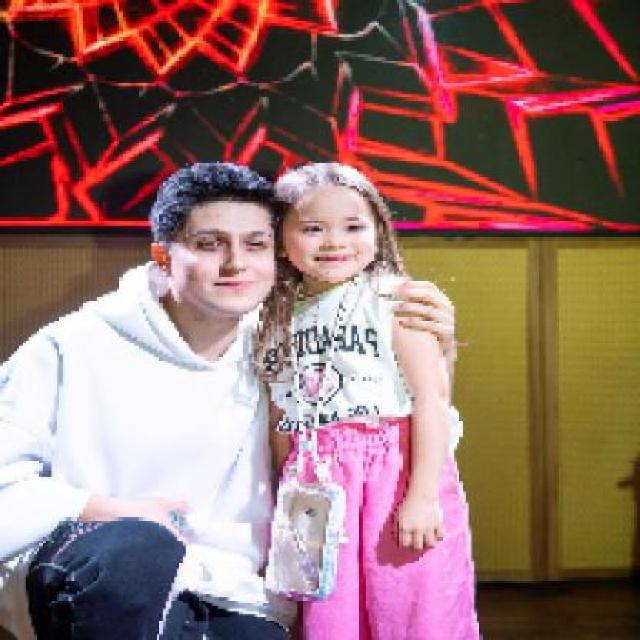child: (254, 162, 486, 638)
